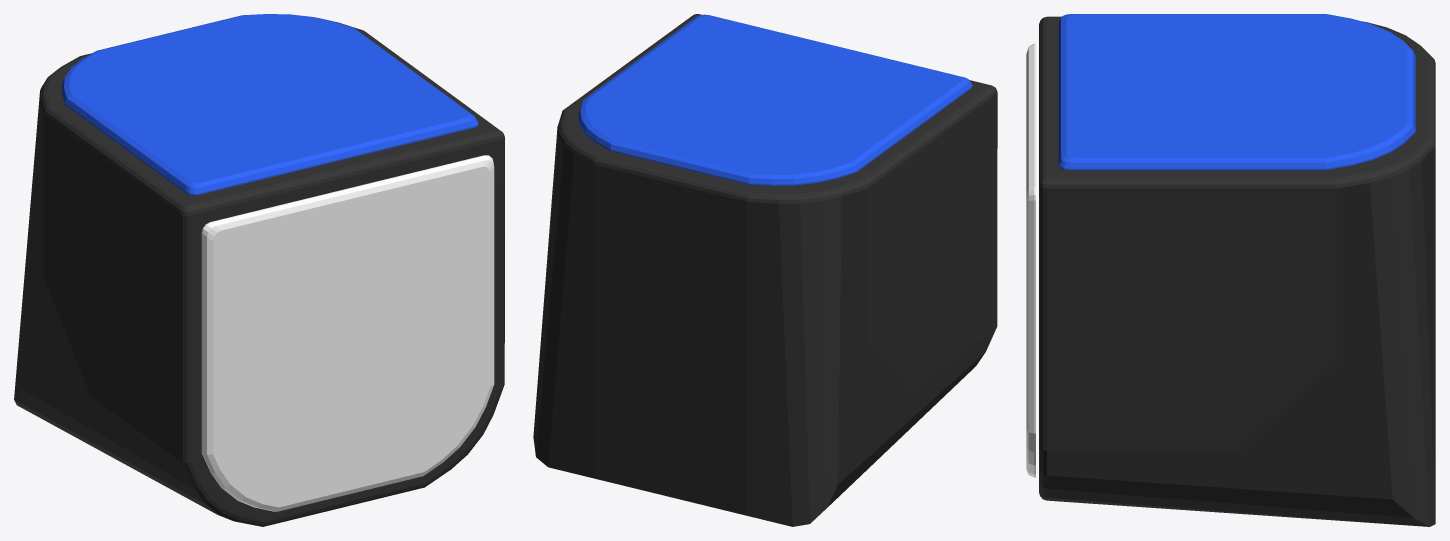
The picture shows the model from 3 angles, left to right: view 1: azimuth 30°, elevation 25°; view 2: azimuth 150°, elevation 25°; view 3: azimuth 270°, elevation 25°; orthographic projection. The views are drawn at different scales.
Parts seen in each view (by area): view 1: Cube.071, Cube.031, Cube.061; view 2: Cube.031, Cube.061; view 3: Cube.031, Cube.061, Cube.071.
Boxes of the visible parts, box(x1,y1,x2,y2) form: Cube.071: box(201, 155, 494, 511); Cube.031: box(14, 20, 504, 526); Cube.061: box(61, 14, 478, 195); Cube.031: box(533, 14, 997, 526); Cube.061: box(578, 14, 972, 185); Cube.031: box(1039, 16, 1435, 526); Cube.061: box(1058, 14, 1415, 170); Cube.071: box(1026, 43, 1035, 477).
Size of the model in its own units: 200 by 206 by 206.
